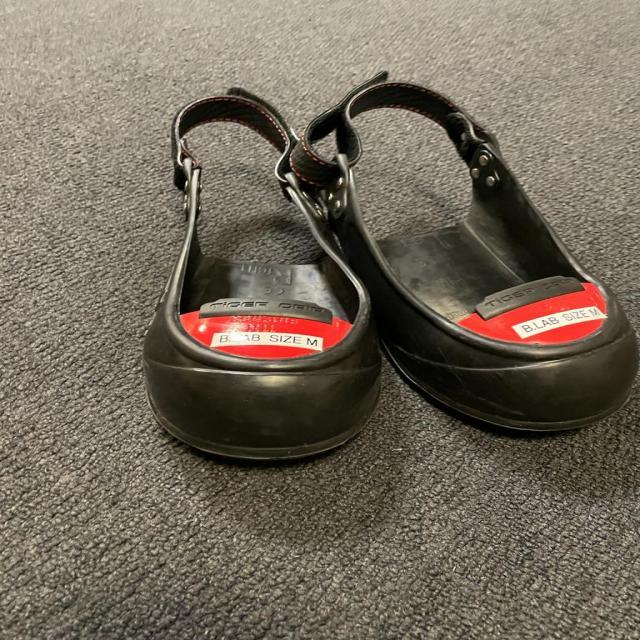shoes: (296, 69, 639, 456), (149, 78, 391, 468)
